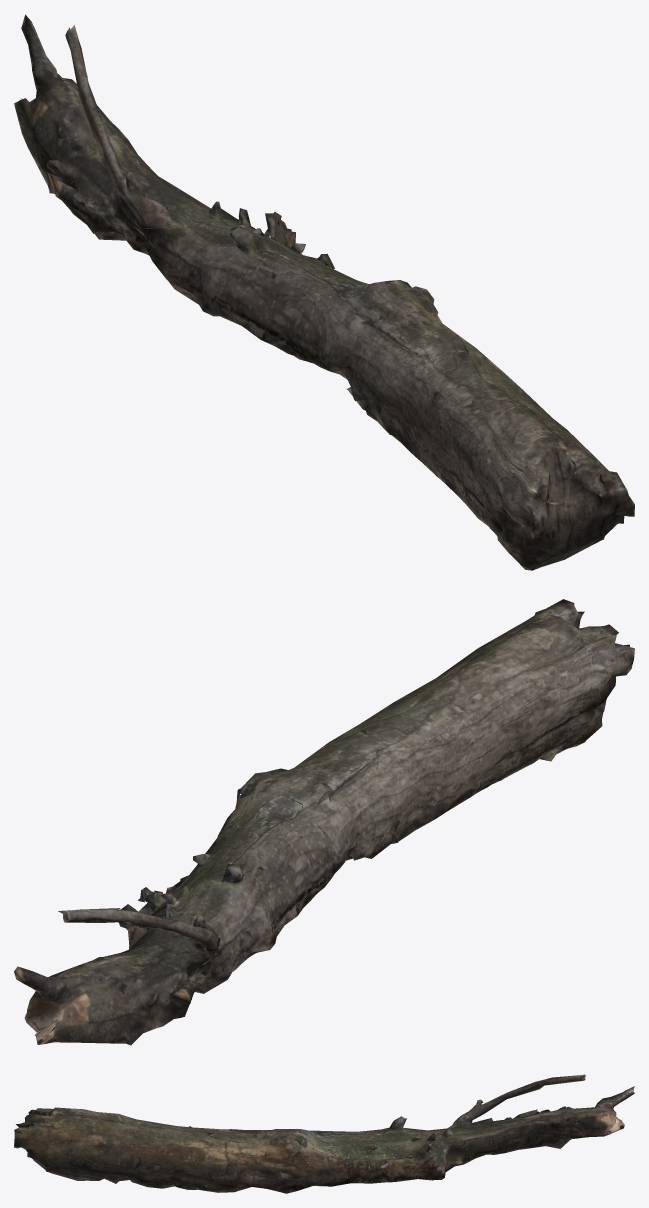
File: dry_branches_medium_01_a.glb
3 views of the same model, one above another, from view 1: azimuth 30°, elevation 25°; view 2: azimuth 150°, elevation 25°; view 3: azimuth 270°, elevation 25° (orthographic). The views are drawn at different scales.
Parts seen in each view (by area): view 1: dry_branches_medium_01_c; view 2: dry_branches_medium_01_c; view 3: dry_branches_medium_01_c.
Part boxes in pixels (x1=…): dry_branches_medium_01_c: x1=14, y1=14, x2=634, y2=570; dry_branches_medium_01_c: x1=14, y1=599, x2=634, y2=1045; dry_branches_medium_01_c: x1=14, y1=1074, x2=634, y2=1193.
Size of the model in its own units: 0.1294 by 0.143 by 0.7771.
Materials: 1 (1 with a texture image).
